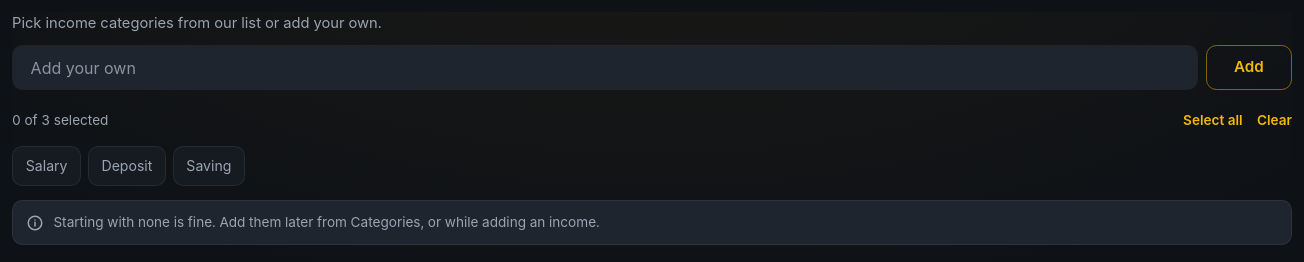
CategoriesStep › selects all and clears everything, own names included
Type "Freelance" into the field labelled "Add your own" at (605, 68), box [12,45,1198,90]
Then press Enter
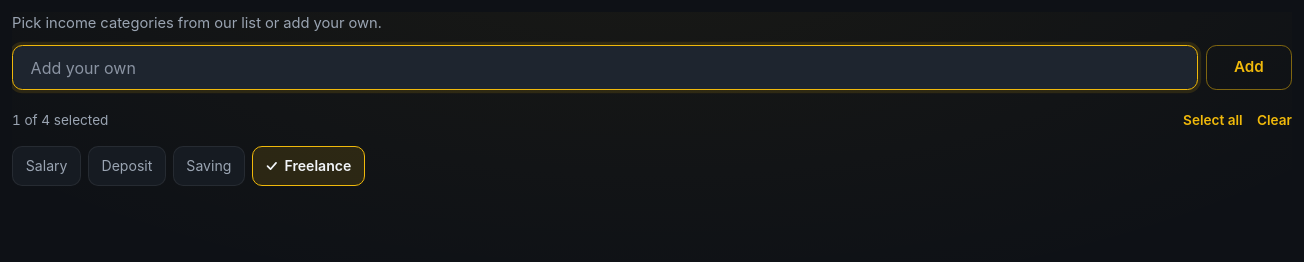
Click the button "Select all" at (1213, 120), box [1183,103,1243,138]
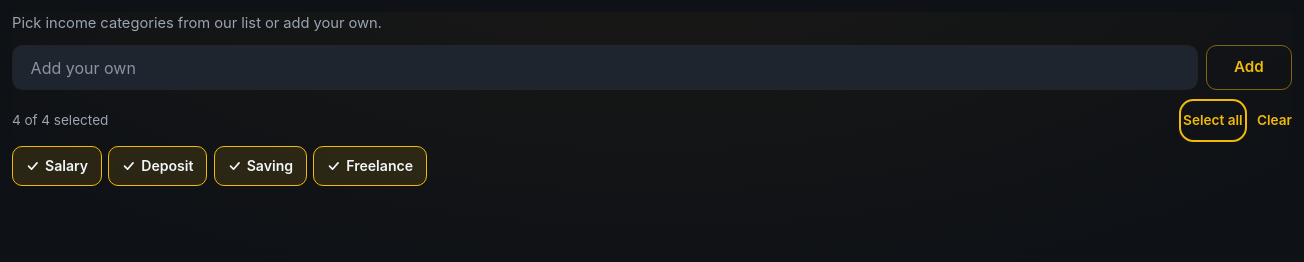
Expected: the text "4 of 4 selected" is shown, [12,110,108,131]
Click the button "Clear" at (1274, 120), box [1257,103,1292,138]
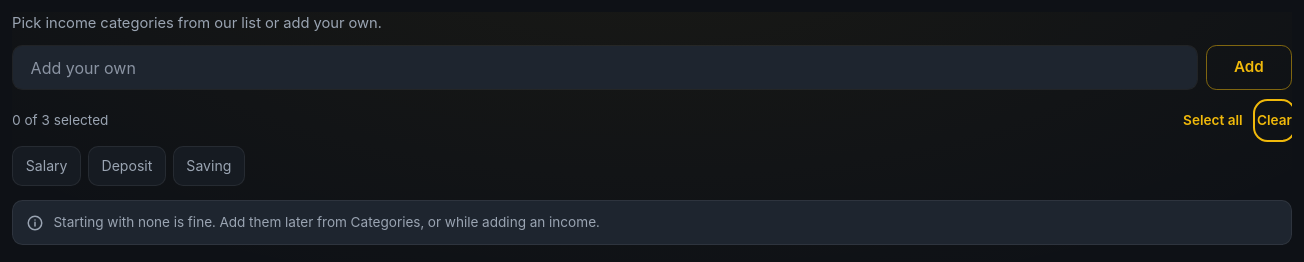
Expected: the text "0 of 3 selected" is shown, [12,110,108,131]
Expected: the button "Freelance" is gone
